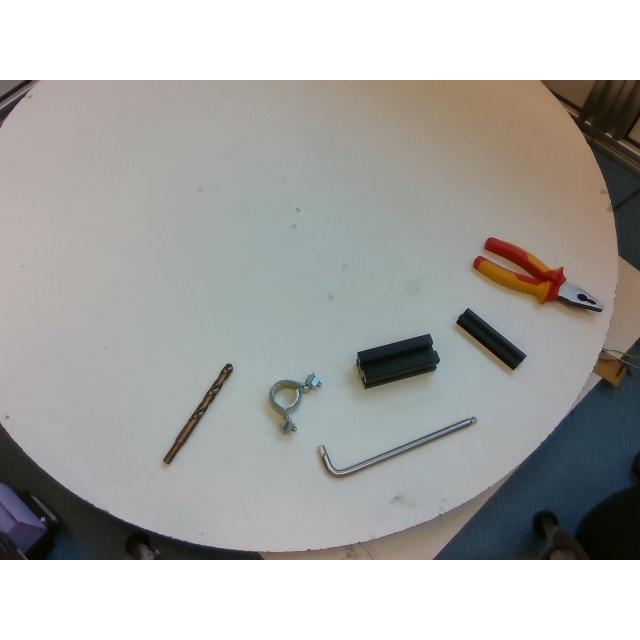AllenKey: (319, 416, 477, 476)
Drill: (163, 364, 233, 464)
F20_20_B: (456, 307, 524, 368)
Housing: (268, 371, 320, 433)
S40_40_B: (357, 334, 439, 388)
